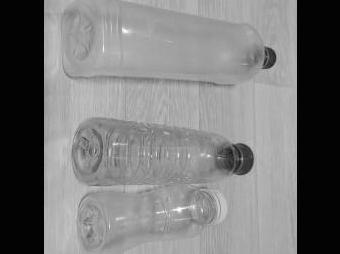bottle: (61, 5, 277, 84), (71, 115, 254, 184), (75, 184, 226, 254)
